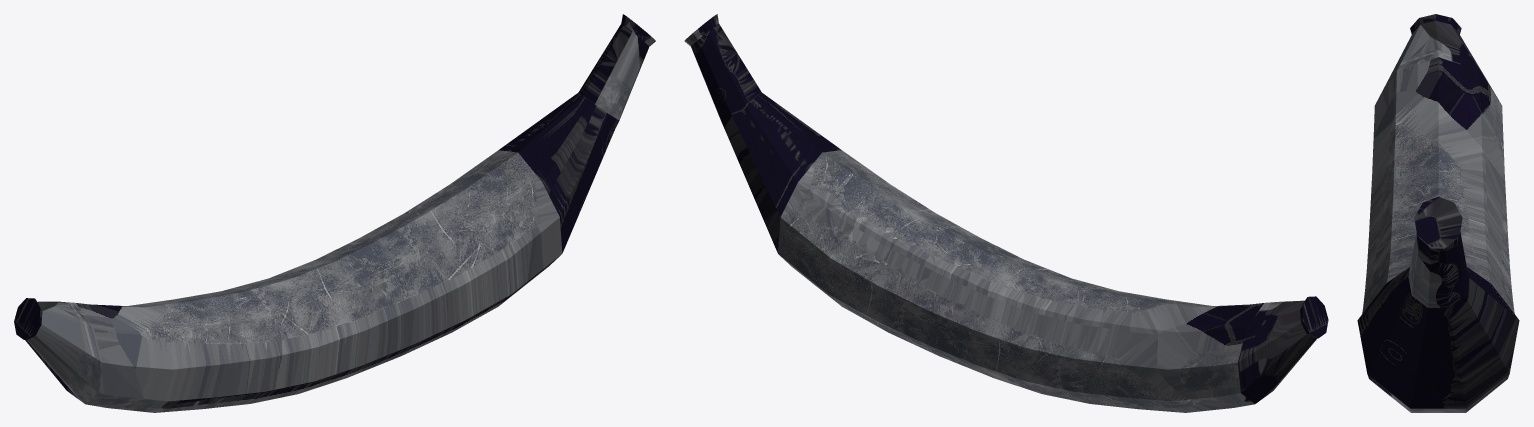
The model's file is ripe_banana.obj.
3 views of the same model, side by side, from view 1: azimuth 30°, elevation 25°; view 2: azimuth 150°, elevation 25°; view 3: azimuth 270°, elevation 25° (orthographic). The views are drawn at different scales.
Visible parts, largest first — view 1: defaultMaterial; view 2: defaultMaterial; view 3: defaultMaterial.
Boxes of the visible parts, x1,y1,x2,y2 form: defaultMaterial: [14, 14, 655, 412]; defaultMaterial: [684, 14, 1328, 412]; defaultMaterial: [1357, 14, 1519, 412].
Bounding box in the file's own units: 0.2 × 0.0868 × 0.0369.
1 material, 1 textured.
